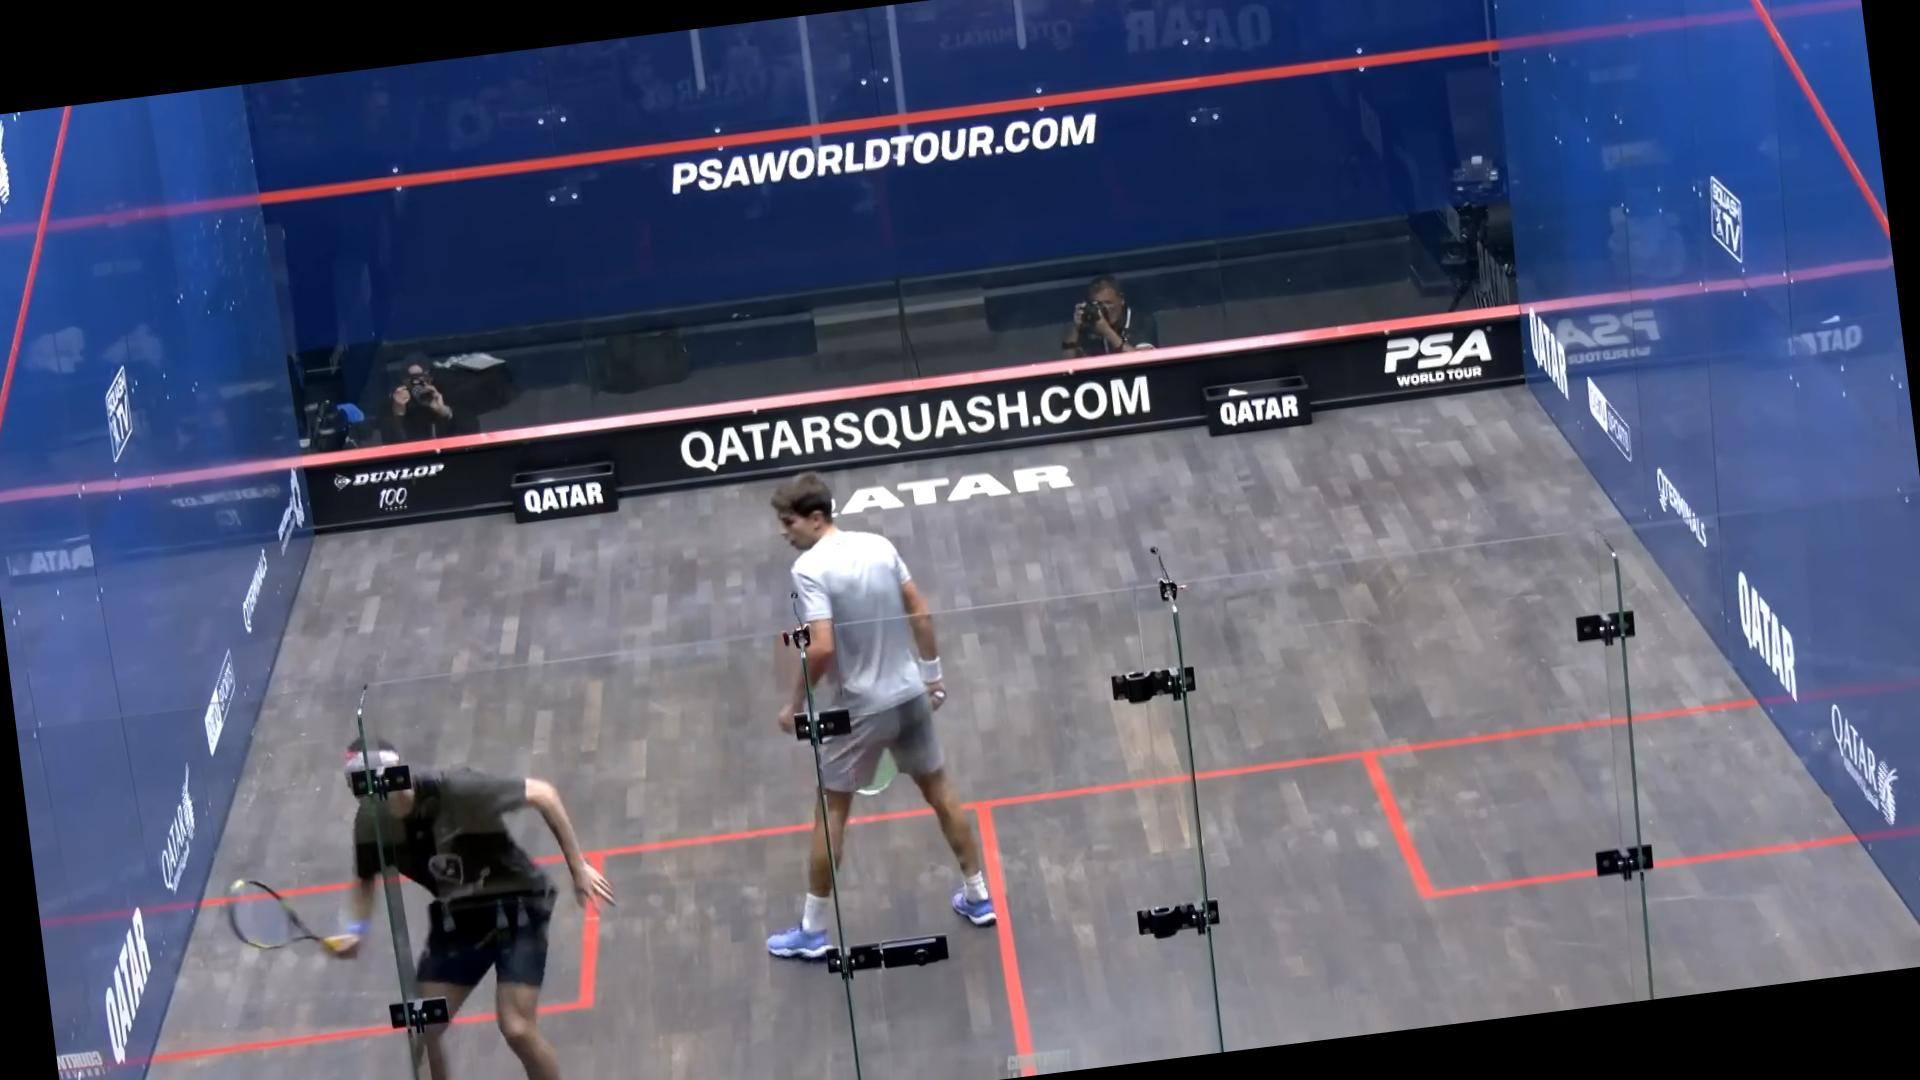Racket: (219, 864, 334, 978)
